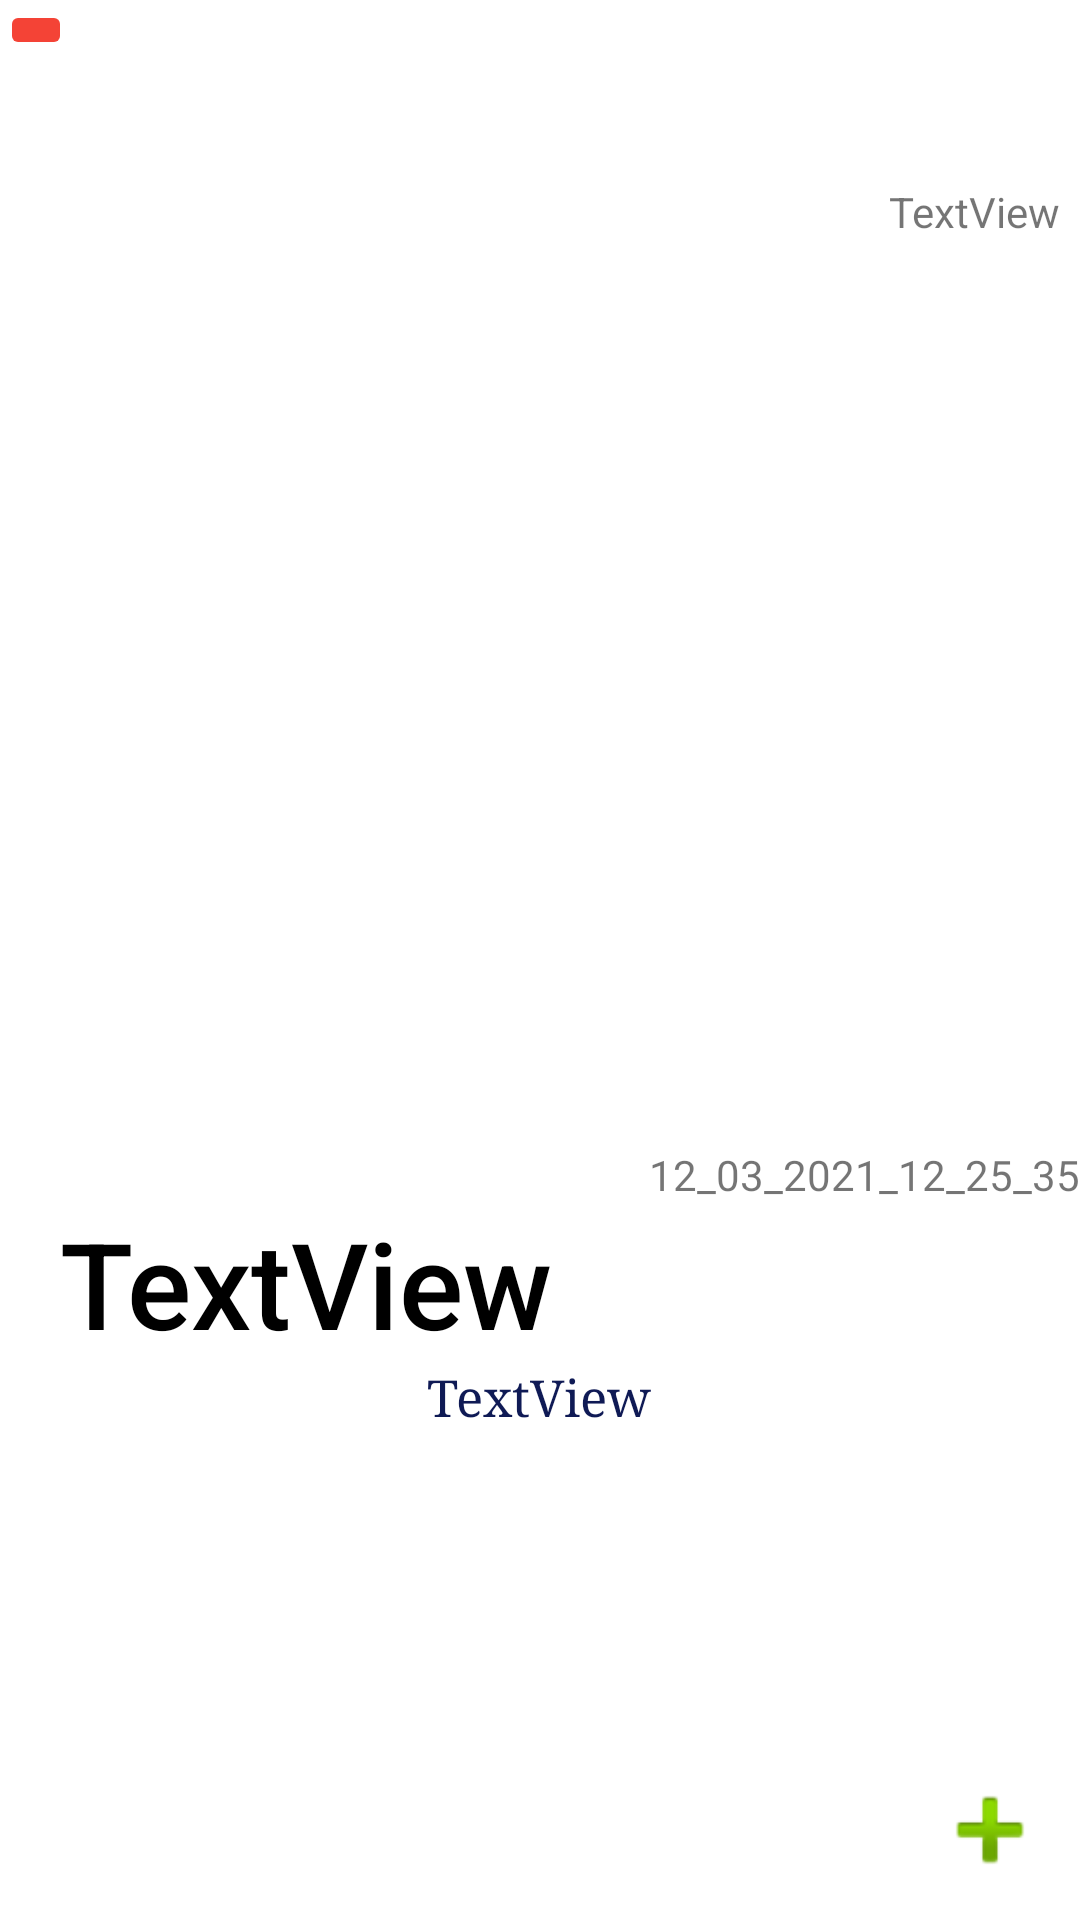

Icons on this 1080×1920 Android screen, each with its box as box=[x1, y1, x2, y2]:
add: box=[956, 1796, 1024, 1864]
